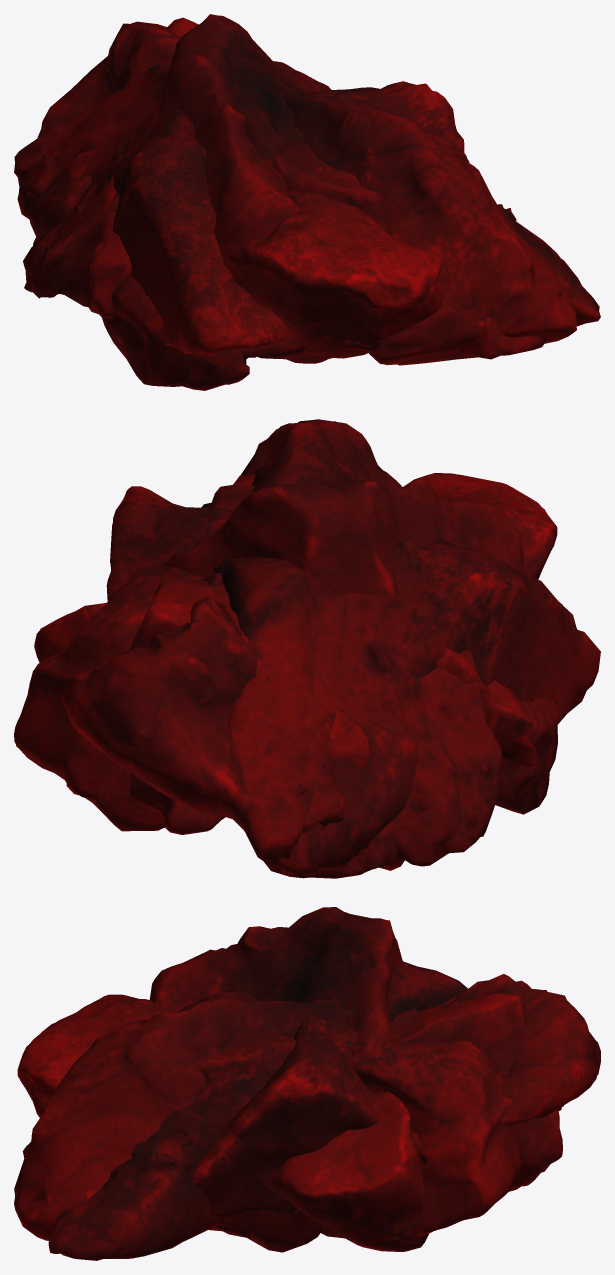
File: rock_moss_set_01.gltf
3 renders of one model, top to bottom at view 1: azimuth 30°, elevation 25°; view 2: azimuth 150°, elevation 25°; view 3: azimuth 270°, elevation 25°, orthographic. The views are drawn at different scales.
Visible parts, largest first — view 1: rock_moss_set_01_rock01, rock_moss_set_01_rock03, rock_moss_set_01_rock02, rock_moss_set_01_rock05, rock_moss_set_01_rock04, rock_moss_set_01_rock06; view 2: rock_moss_set_01_rock02, rock_moss_set_01_rock01, rock_moss_set_01_rock03, rock_moss_set_01_rock04, rock_moss_set_01_rock05, rock_moss_set_01_rock06; view 3: rock_moss_set_01_rock01, rock_moss_set_01_rock04, rock_moss_set_01_rock05, rock_moss_set_01_rock02, rock_moss_set_01_rock03, rock_moss_set_01_rock06.
Boxes of the visible parts, box(x1,y1,x2,y2) form: rock_moss_set_01_rock01: box(17, 21, 576, 390); rock_moss_set_01_rock03: box(86, 81, 464, 355); rock_moss_set_01_rock02: box(14, 60, 600, 359); rock_moss_set_01_rock05: box(66, 61, 443, 363); rock_moss_set_01_rock04: box(88, 14, 321, 313); rock_moss_set_01_rock06: box(88, 17, 393, 318); rock_moss_set_01_rock02: box(194, 502, 502, 878); rock_moss_set_01_rock01: box(61, 419, 557, 874); rock_moss_set_01_rock03: box(106, 486, 600, 725); rock_moss_set_01_rock04: box(34, 478, 524, 870); rock_moss_set_01_rock05: box(14, 473, 557, 834); rock_moss_set_01_rock06: box(61, 473, 536, 831); rock_moss_set_01_rock01: box(14, 974, 600, 1252); rock_moss_set_01_rock04: box(149, 907, 428, 1251); rock_moss_set_01_rock05: box(17, 994, 521, 1236); rock_moss_set_01_rock02: box(48, 961, 467, 1260); rock_moss_set_01_rock03: box(192, 1016, 419, 1217); rock_moss_set_01_rock06: box(196, 993, 562, 1191).
Bounding box in the file's own units: 2.66 × 1.77 × 3.36.
Materials: 1 (1 with a texture image).
